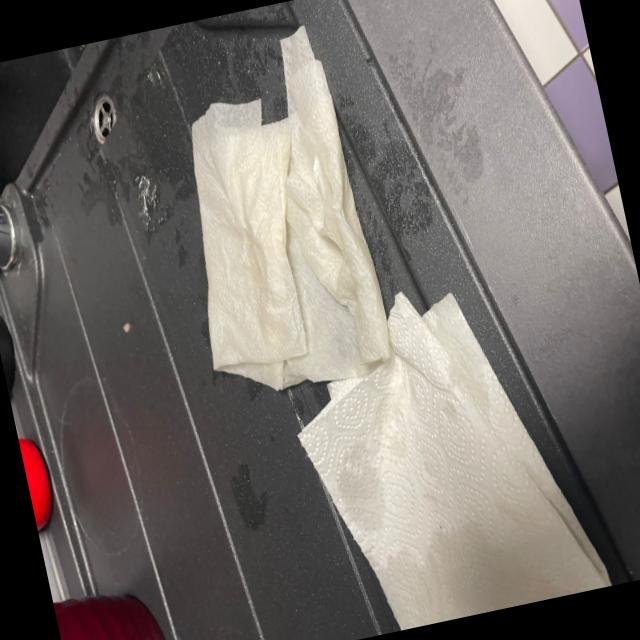organic waste: (273, 251, 612, 640), (137, 16, 398, 402)
